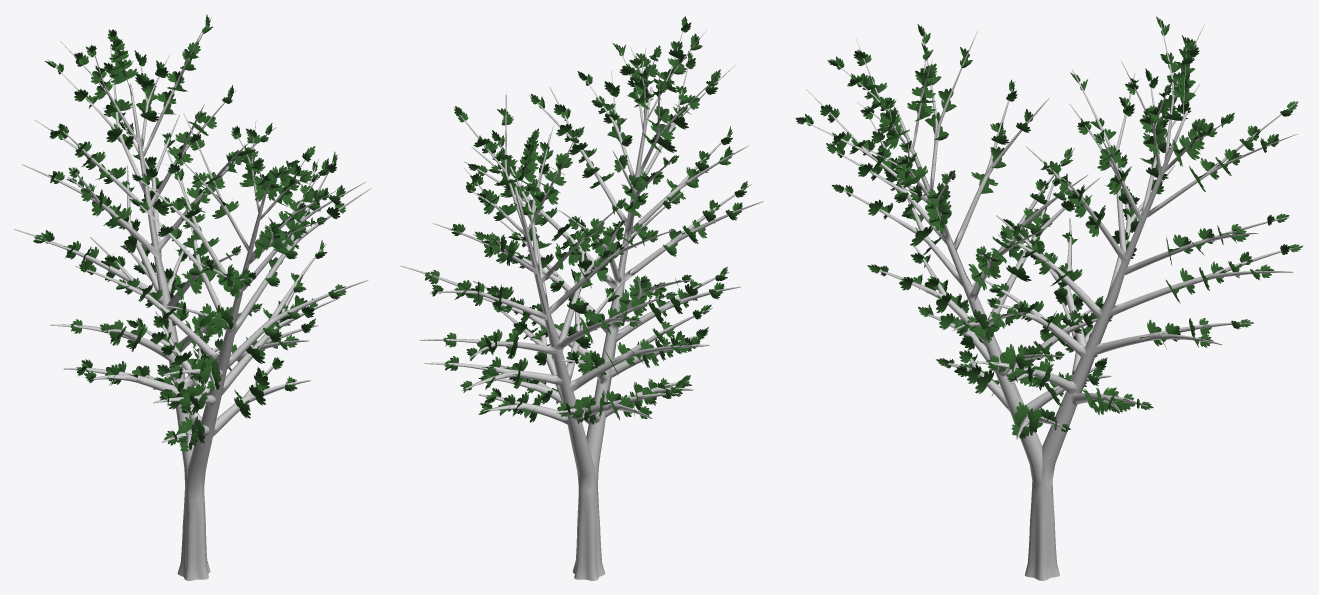
File: Tree_3.obj
3 views of the same model, side by side, from view 1: azimuth 30°, elevation 25°; view 2: azimuth 150°, elevation 25°; view 3: azimuth 270°, elevation 25° (orthographic). The views are drawn at different scales.
Parts seen in each view (by area): view 1: ..\..\projects\godot\ludum_dare49\res\assets\textures\leaf\sprit, sys/tree it/no texture; view 2: ..\..\projects\godot\ludum_dare49\res\assets\textures\leaf\sprit, sys/tree it/no texture; view 3: ..\..\projects\godot\ludum_dare49\res\assets\textures\leaf\sprit, sys/tree it/no texture.
Boxes of the visible parts, x1,y1,x2,y2 form: ..\..\projects\godot\ludum_dare49\res\assets\textures\leaf\sprit: [33, 14, 346, 451]; sys/tree it/no texture: [14, 17, 371, 580]; ..\..\projects\godot\ludum_dare49\res\assets\textures\leaf\sprit: [425, 16, 747, 424]; sys/tree it/no texture: [400, 21, 763, 580]; ..\..\projects\godot\ludum_dare49\res\assets\textures\leaf\sprit: [795, 16, 1302, 439]; sys/tree it/no texture: [795, 18, 1303, 580].
Size of the model in its own units: 254 by 440 by 381.
